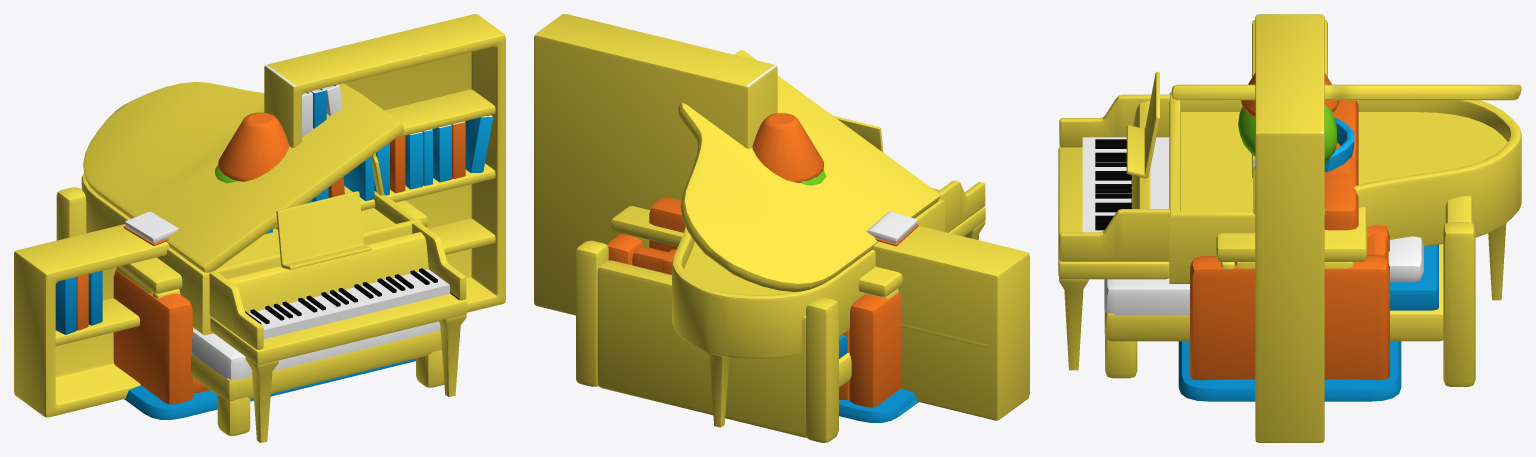
File: default_testObject.fbx
3 views of the same model, side by side, from view 1: azimuth 30°, elevation 25°; view 2: azimuth 150°, elevation 25°; view 3: azimuth 270°, elevation 25° (orthographic). The views are drawn at different scales.
Visible parts, largest first — view 1: GrandPiano, Bookstand, DoubleBed, Sofa01, LampStand01, Rug01, Desk00; view 2: Bookstand, GrandPiano, DoubleBed, Sofa01, LampStand01, Desk00, Rug01; view 3: GrandPiano, Bookstand, Sofa01, DoubleBed, Rug01, Desk00, Plant00, Chair, Sofa02.
Boxes of the visible parts, <box> form: GrandPiano: <box>81,81,467,442</box>; Bookstand: <box>14,14,505,417</box>; DoubleBed: <box>56,187,444,435</box>; Sofa01: <box>113,269,209,404</box>; LampStand01: <box>218,112,289,181</box>; Rug01: <box>124,358,415,419</box>; Desk00: <box>116,200,427,298</box>; Bookstand: <box>534,14,1029,420</box>; GrandPiano: <box>672,50,985,427</box>; DoubleBed: <box>576,240,851,442</box>; Sofa01: <box>607,198,901,407</box>; LampStand01: <box>752,113,824,182</box>; Desk00: <box>611,206,902,298</box>; Rug01: <box>839,388,918,422</box>; GrandPiano: <box>1058,71,1521,370</box>; Bookstand: <box>1252,14,1327,442</box>; Sofa01: <box>1190,100,1389,380</box>; DoubleBed: <box>1104,196,1475,386</box>; Rug01: <box>1178,341,1401,401</box>; Desk00: <box>1216,207,1367,268</box>; Plant00: <box>1238,104,1337,161</box>; Chair: <box>1324,117,1354,172</box>; Sofa02: <box>1324,125,1389,251</box>.
Bounding box in the file's own units: 3.28 × 1.86 × 2.47.
